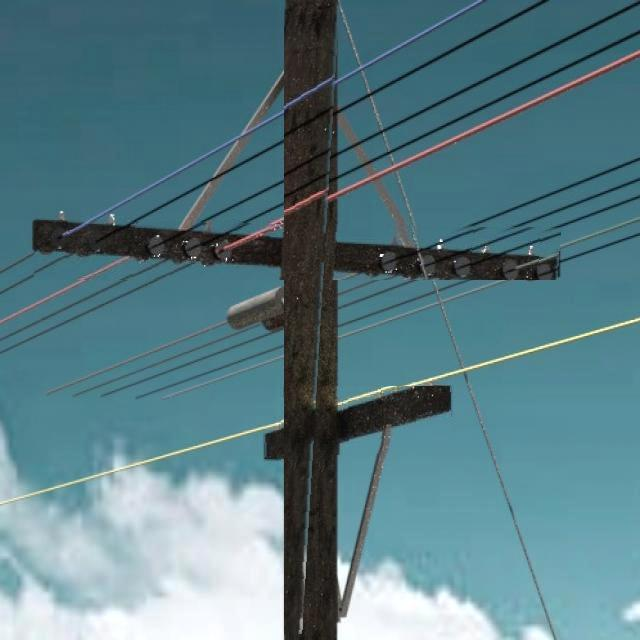crossarm: (34, 220, 560, 280), (264, 386, 451, 457)
pole: (284, 0, 340, 636)
